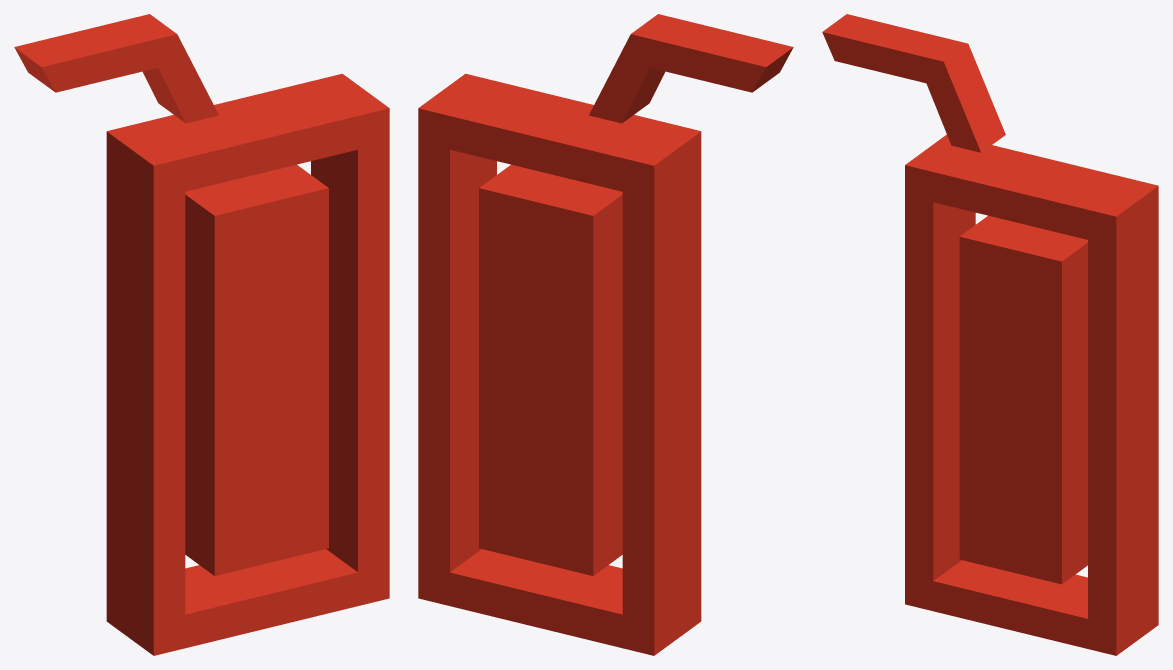
Rendered from Icon_Glass_01.fbx.
3 renders of one model, left to right at view 1: azimuth 30°, elevation 25°; view 2: azimuth 150°, elevation 25°; view 3: azimuth 330°, elevation 25°, orthographic. The views are drawn at different scales.
Visible parts, largest first — view 1: Icon_Glass_01; view 2: Icon_Glass_01; view 3: Icon_Glass_01.
Boxes of the visible parts, x1,y1,x2,y2 form: Icon_Glass_01: (14,14,389,655); Icon_Glass_01: (418,14,793,655); Icon_Glass_01: (822,14,1158,655).
Bounding box in the file's own units: 49.81 × 85.36 × 12.06.
